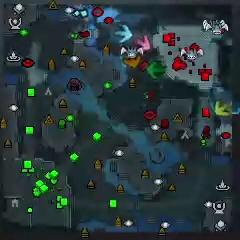x1: (135, 35, 151, 52)
x2: (214, 100, 230, 116)
x3: (116, 24, 132, 44)
x4: (147, 60, 167, 79)
x5: (122, 55, 141, 68)
